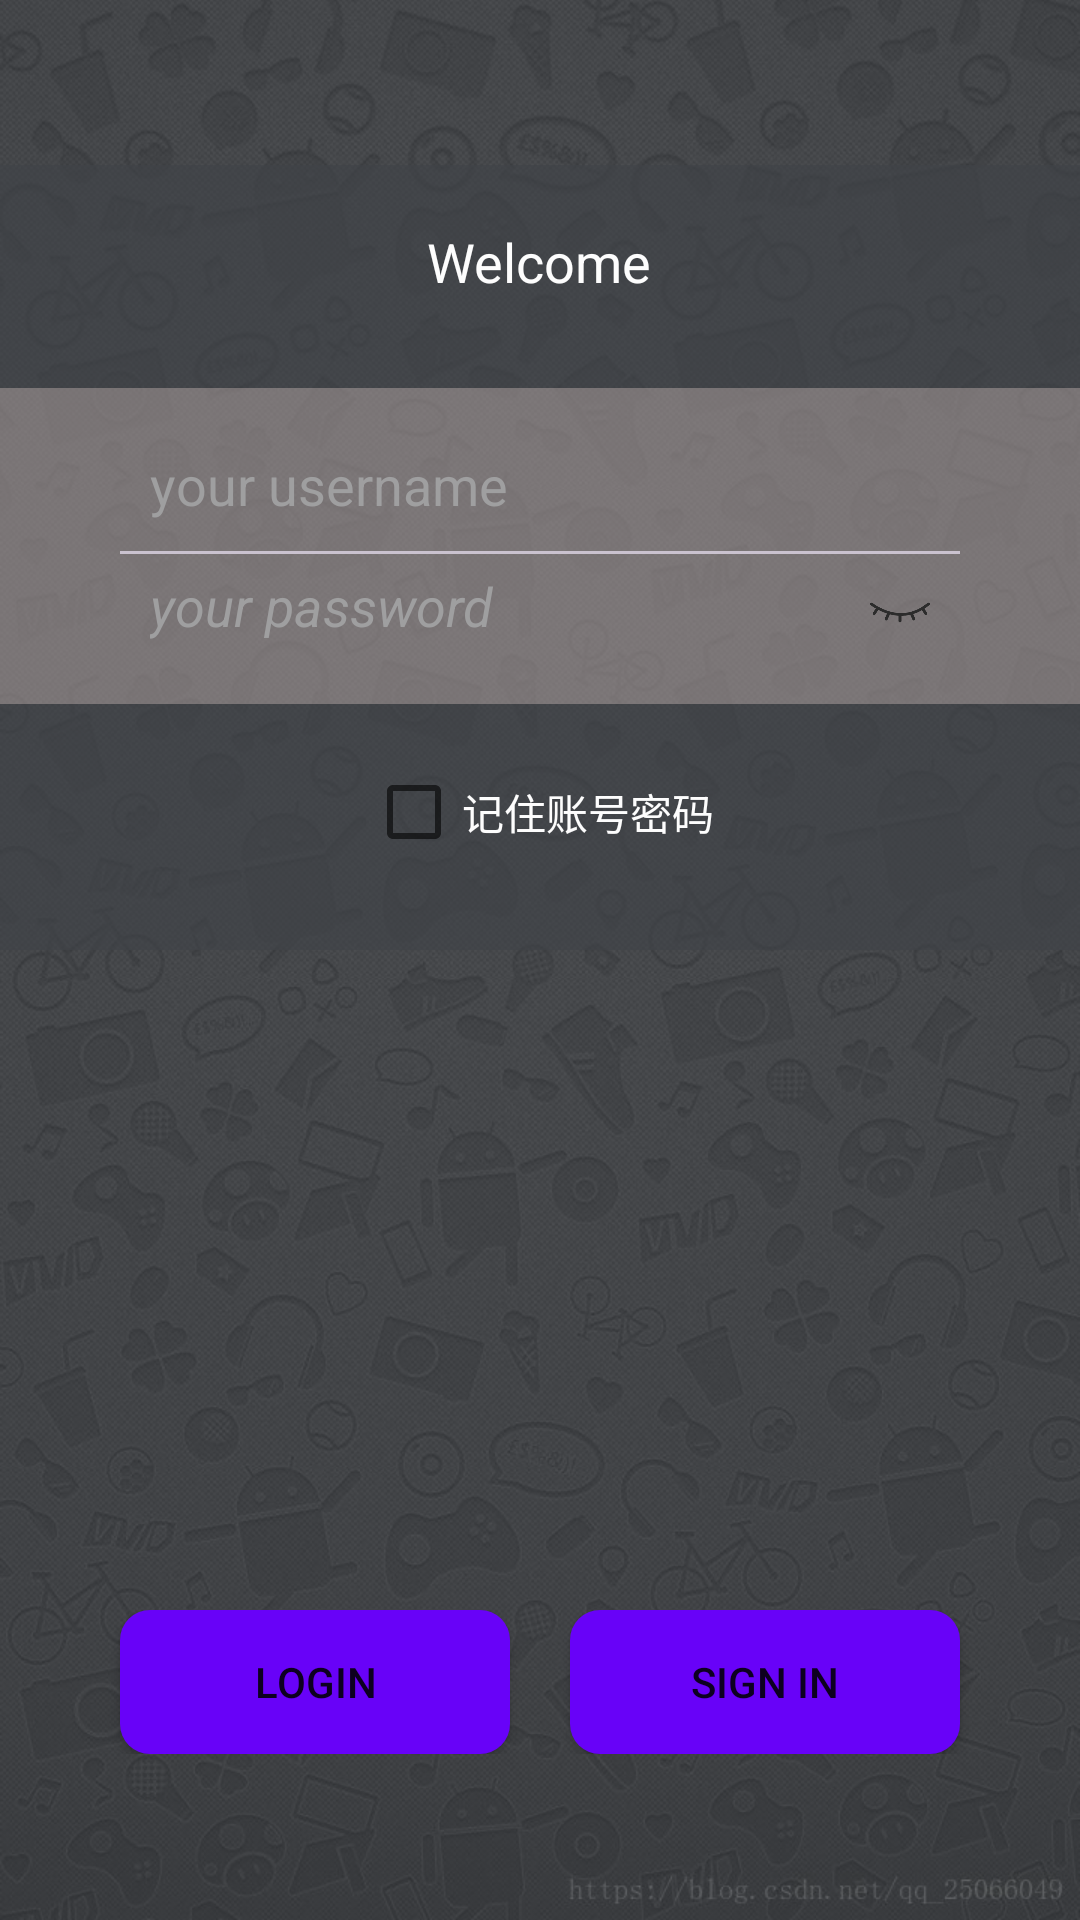

Icon bounding boxes for this 1080px x 1920px phone screenshot, format [x1,y1,x2,y2]:
eyeclose: [870,603,930,622]
